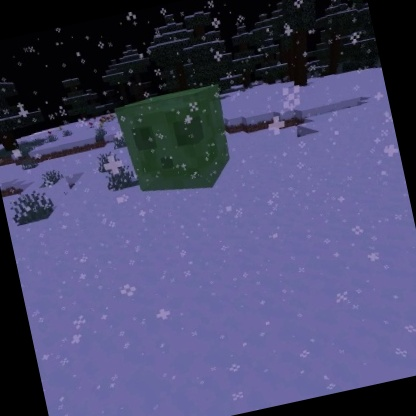slime: (111, 77, 243, 208)
